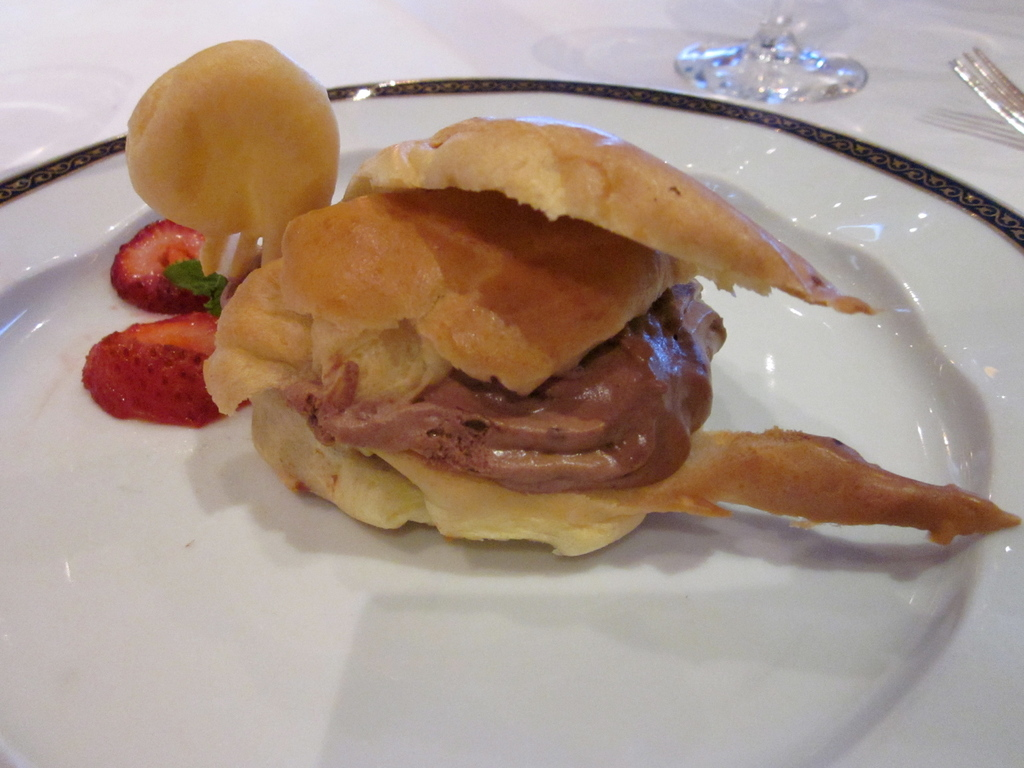Hamburger: (202, 115, 1016, 559)
